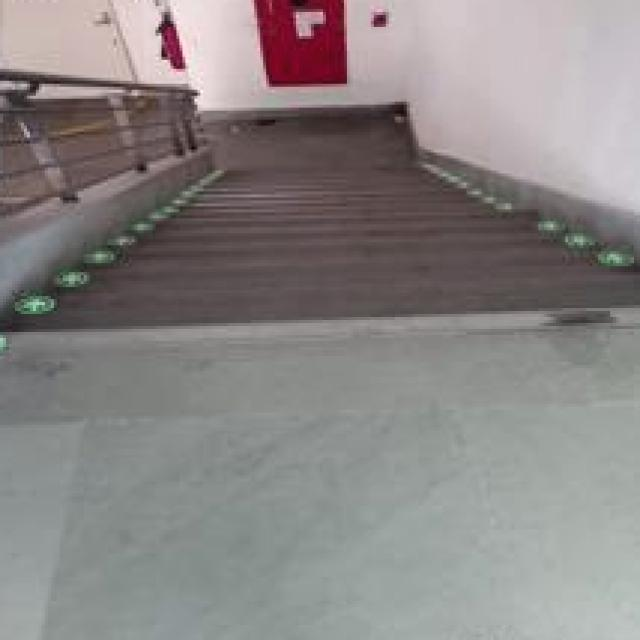downstair: (76, 222, 587, 417)
